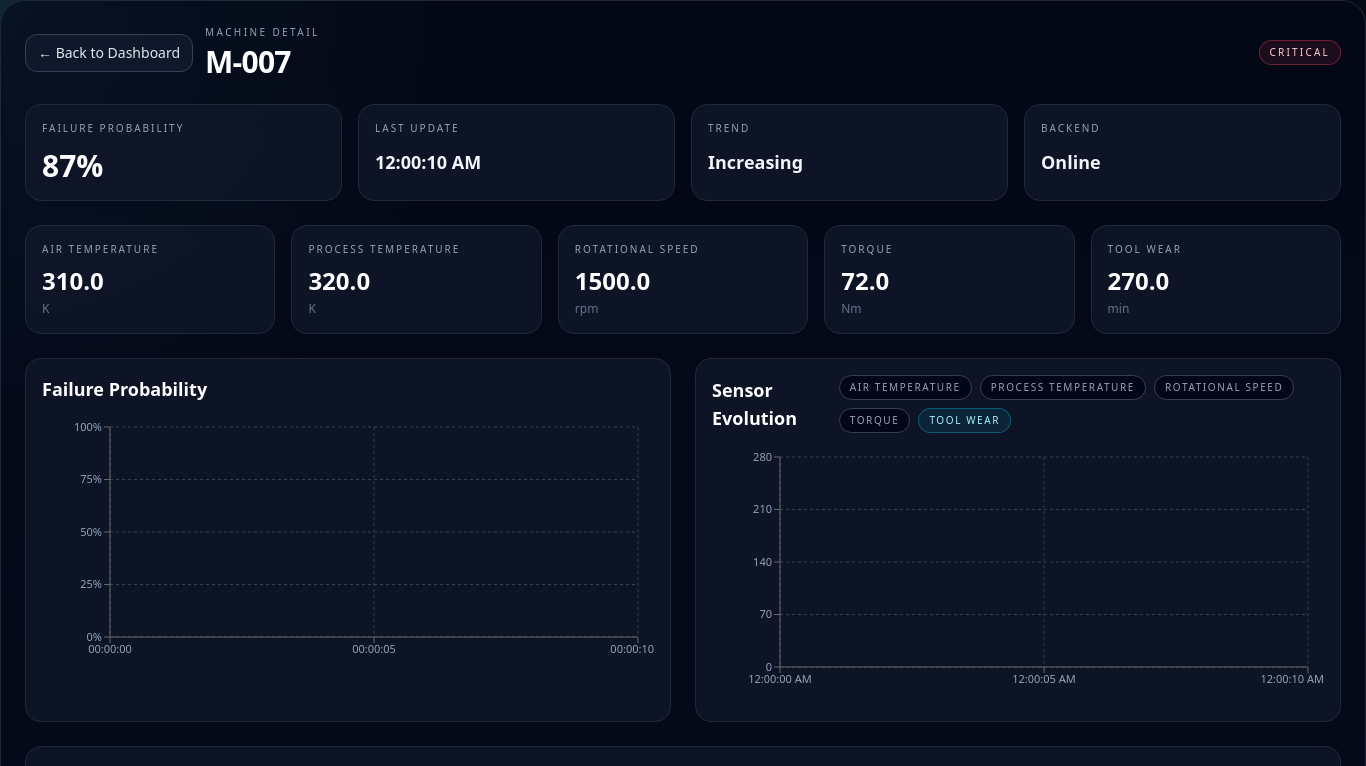
Test: MachineDetail › back button returns to dashboard
The width and height of the screenshot is (1366, 766).
Click the button "← Back to Dashboard" at (109, 52), box [25,34,193,72]
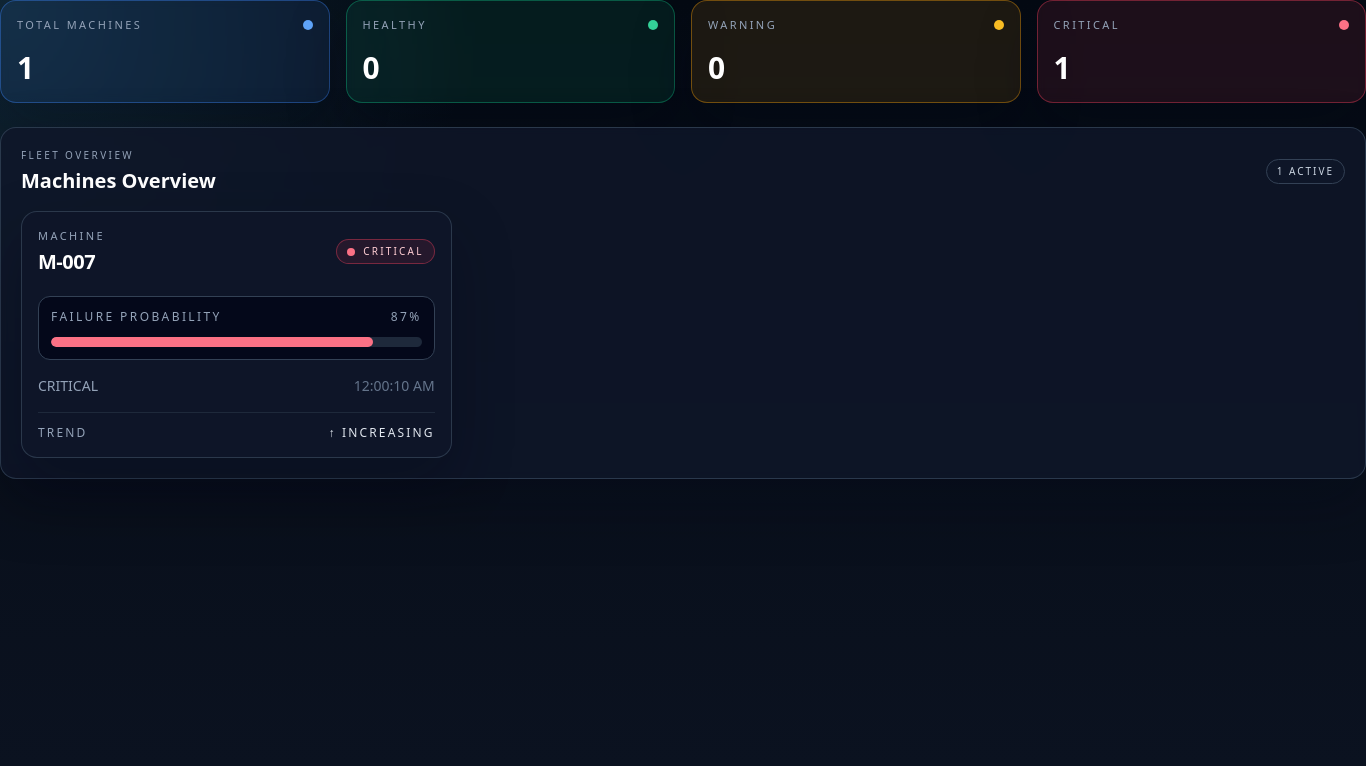
Now the heading "Machines Overview" is shown, box [21,166,216,194]
